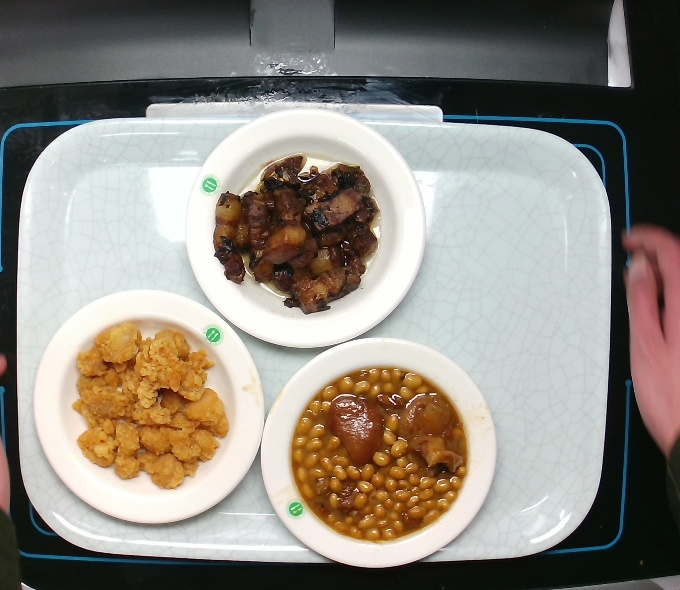wcq-GanCaiRou: (208, 150, 387, 316)
wcq-HuangDouZhuJiao: (283, 362, 472, 545)
wcq-JiMiHua: (66, 316, 234, 494)
